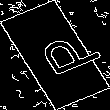P_SW: (17, 27, 93, 83)
